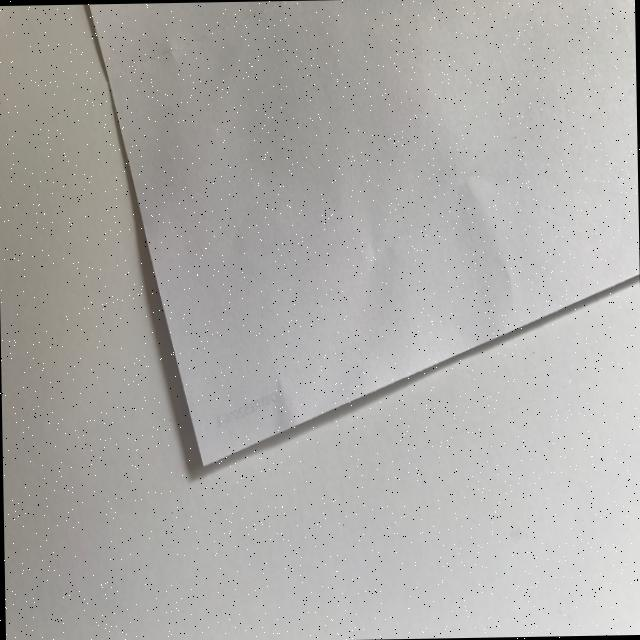paper: (85, 0, 640, 469)
